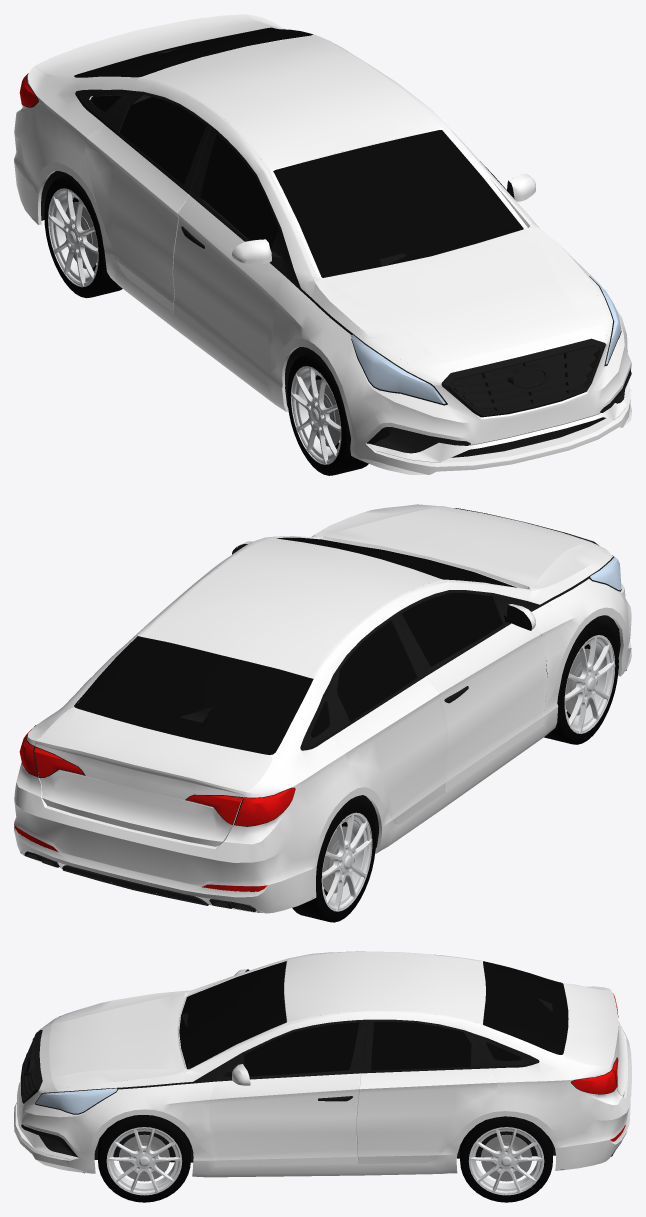
File: sonata-2016.glb
3 views of the same model, one above another, from view 1: azimuth 30°, elevation 25°; view 2: azimuth 150°, elevation 25°; view 3: azimuth 270°, elevation 25° (orthographic). The views are drawn at different scales.
Visible parts, largest first — view 1: body, model_8_0, hood, roof, model_2_0_1, model_4, model_5, model_3_1, model_2_0_0_0_0_2, rear, model_1, model_2_1; view 2: body, model_8_0, roof, hood, model_4, model_2_0_1, model_5, model_3_0, model_2_0_0_0_0_2, model_1, model_2_1; view 3: body, model_8_0, roof, hood, model_4, model_5, model_2_0_1, model_1, model_2_0_0_0_0_2, model_3_1, model_2_1, model_3_0 (+1 smaller).
Boxes of the visible parts, x1,y1,x2,y2 form: body: (14, 14, 631, 474); model_8_0: (74, 27, 522, 277); hood: (312, 223, 607, 382); roof: (139, 35, 443, 170); model_2_0_1: (21, 28, 631, 457); model_4: (48, 188, 341, 464); model_5: (44, 174, 368, 475); model_3_1: (351, 277, 621, 403); model_2_0_0_0_0_2: (189, 126, 514, 276); rear: (232, 173, 535, 264); model_1: (64, 202, 340, 446); model_2_1: (34, 171, 421, 460); body: (14, 535, 631, 913); model_8_0: (74, 537, 516, 754); roof: (138, 537, 443, 677); hood: (313, 504, 607, 590); model_4: (321, 635, 615, 911); model_2_0_1: (22, 508, 621, 911); model_5: (292, 621, 618, 922); model_3_0: (14, 729, 295, 891); model_2_0_0_0_0_2: (232, 544, 531, 675); model_1: (322, 648, 598, 893); model_2_1: (233, 615, 626, 908); body: (14, 951, 631, 1177); model_8_0: (179, 961, 568, 1076); roof: (284, 952, 485, 1024); hood: (39, 990, 190, 1089); model_4: (106, 1127, 544, 1195); model_5: (98, 1115, 552, 1202); model_2_0_1: (21, 985, 621, 1157); model_1: (119, 1134, 531, 1181); model_2_0_0_0_0_2: (215, 969, 368, 1081); model_3_1: (36, 1008, 117, 1113); model_2_1: (83, 1131, 563, 1173); model_3_0: (571, 993, 625, 1141).
Size of the model in its own units: 2.04 by 1.53 by 4.87.
